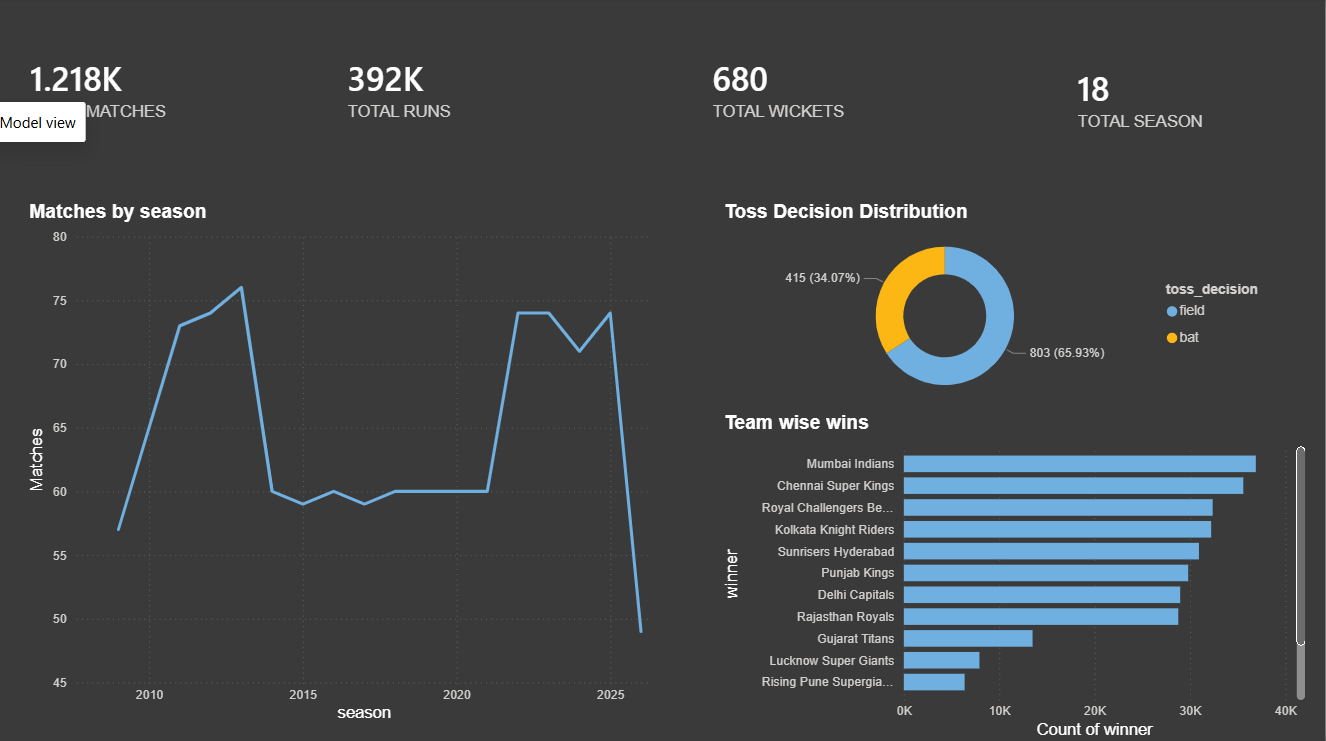

This screenshot's page, from the dashboard's own definition file:
{"tool":"powerbi","page":{"name":"Overview Dashboard","canvas":[1280,720],"ordinal":0},"visuals":[{"type":"lineChart","fields":{"Category":["IPL_Cleaned.season"],"Y":["Count(IPL_Cleaned.match_id)"]},"box":[24.7,196.2,614.8,507.7],"z":0},{"type":"clusteredBarChart","title":"Team wise wins","fields":{"Y":["CountNonNull(IPL_Cleaned.winner)"],"Category":["IPL_Cleaned.winner"]},"box":[694.3,400.7,570.8,319.7],"z":1000},{"type":"donutChart","title":"Toss Decision Distribution","fields":{"Category":["IPL_Cleaned.toss_decision"],"Y":["Count(IPL_Cleaned.match_id)"]},"box":[694.3,196.2,539.3,201.7],"z":2000},{"type":"cardVisual","fields":{"Data":["Count(IPL_Cleaned.match_id)"]},"box":[0,0,292.3,175.6],"z":3000},{"type":"cardVisual","fields":{"Data":["Sum(IPL_Cleaned.runs_total)"]},"box":[306,0,289.5,175.6],"z":4000},{"type":"cardVisual","fields":{"Data":["Count(IPL_Cleaned.wicket_player_out)"]},"box":[658.7,0,289.5,175.6],"z":5000},{"type":"cardVisual","fields":{"Data":["Count(IPL_Cleaned.season)"]},"box":[1011.3,9.6,253.9,175.6],"z":6000}]}

Visuals, with their boxes on the page's 1280x720 design canvas (x1, y1, x2, y2). These are canvas units, not pixel positions in the 1326x741 screenshot, which may show the page scaled, cropped or inside an application window:
lineChart - IPL_Cleaned.season x Count(IPL_Cleaned.match_id): [left=25, top=196, right=640, bottom=704]
"Team wise wins" clusteredBarChart: [left=694, top=401, right=1265, bottom=720]
"Toss Decision Distribution" donutChart: [left=694, top=196, right=1234, bottom=398]
cardVisual - Count(IPL_Cleaned.match_id): [left=0, top=0, right=292, bottom=176]
cardVisual - Sum(IPL_Cleaned.runs_total): [left=306, top=0, right=596, bottom=176]
cardVisual - Count(IPL_Cleaned.wicket_player_out): [left=659, top=0, right=948, bottom=176]
cardVisual - Count(IPL_Cleaned.season): [left=1011, top=10, right=1265, bottom=185]
